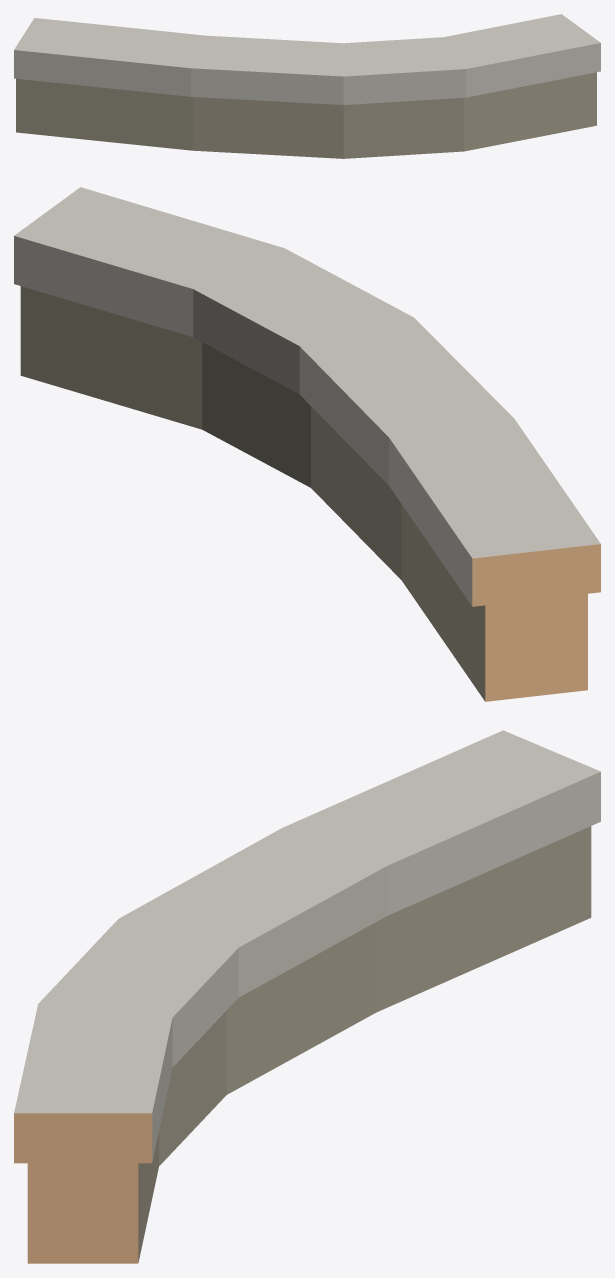
Rendered from Tiered_Retaining_Wall_45_Degrees_Curve_Inner_3x3_Top.glb.
3 views of the same model, one above another, from view 1: azimuth 30°, elevation 25°; view 2: azimuth 150°, elevation 25°; view 3: azimuth 270°, elevation 25° (orthographic). The views are drawn at different scales.
Visible parts, largest first — view 1: Tiered_Retaining_Wall_45_Degrees_Curve_Inner_3x3_Top; view 2: Tiered_Retaining_Wall_45_Degrees_Curve_Inner_3x3_Top; view 3: Tiered_Retaining_Wall_45_Degrees_Curve_Inner_3x3_Top.
Boxes of the visible parts, x1,y1,x2,y2 form: Tiered_Retaining_Wall_45_Degrees_Curve_Inner_3x3_Top: (14,14,600,158); Tiered_Retaining_Wall_45_Degrees_Curve_Inner_3x3_Top: (14,187,600,701); Tiered_Retaining_Wall_45_Degrees_Curve_Inner_3x3_Top: (14,730,600,1263).
Bounding box in the file's own units: 205 × 37.5 × 133.
